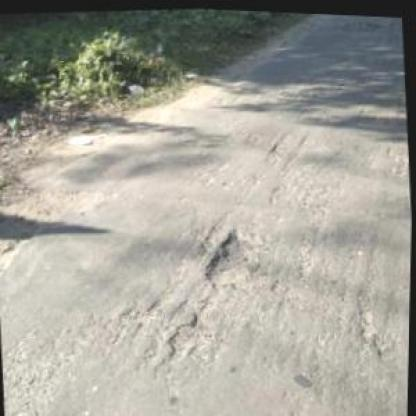pothole: (200, 222, 260, 288), (165, 310, 216, 360)
